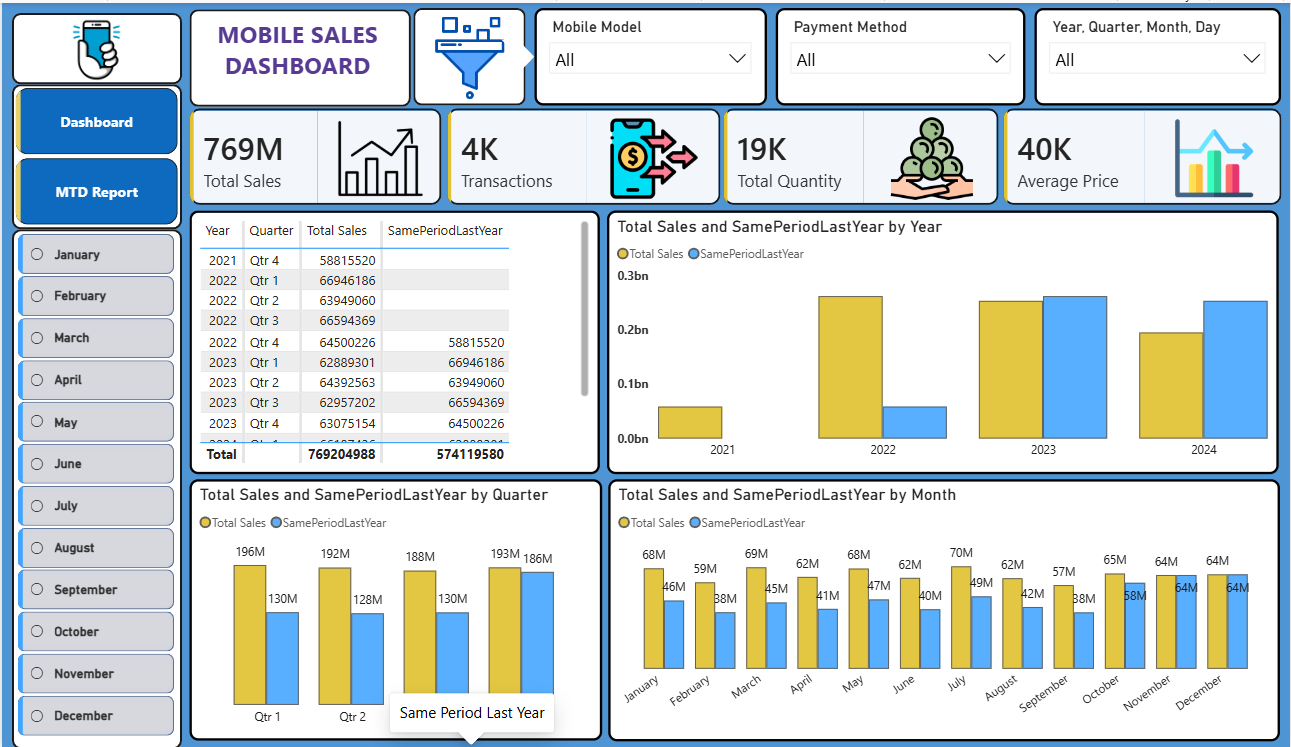

This screenshot's page, from the dashboard's own definition file:
{"tool":"powerbi","page":{"name":"Same Period Last Year","canvas":[1320,765],"ordinal":2},"visuals":[{"type":"shape","box":[10.3,10.3,174.3,73.1],"z":0},{"type":"image","box":[41,15.4,111.5,64.1],"z":1000},{"type":"shape","box":[10.3,83.3,174.3,148.7],"z":2000},{"type":"group","id":"g1","title":"Group 1","box":[184.6,100,1136,115.4],"z":3000},{"type":"shape","box":[10.3,231.8,174.3,533.2],"z":3000,"group":"g2"},{"type":"shape","box":[192,6.4,227,100],"z":4000},{"type":"advancedSlicerVisual","fields":{"Values":["Custom_Calender.Date.Variation.Date Hierarchy.Month"]},"box":[11.6,231.8,170.5,533.2],"z":4000,"group":"g2"},{"type":"textbox","box":[196.1,10.3,214.1,89.7],"z":5000},{"type":"cardVisual","fields":{"Data":["Sales_Data.Total Sales"]},"box":[184.6,100,274.7,115.3],"z":5000,"group":"g1"},{"type":"slicer","fields":{"Values":["Sales_Data.Mobile Model"]},"box":[546.1,5.1,238,100],"z":6000},{"type":"cardVisual","fields":{"Data":["Sales_Data.Total Transaction"]},"box":[448.1,100,296.1,115.3],"z":6000,"group":"g1"},{"type":"slicer","fields":{"Values":["Custom_Calender.Date.Variation.Date Hierarchy.Year","Custom_Calender.Date.Variation.Date Hierarchy.Quarter","Custom_Calender.Date.Variation.Date Hierarchy.Month","Custom_Calender.Date.Variation.Date Hierarchy.Day"]},"box":[1058.8,5.1,252.5,100],"z":7000},{"type":"cardVisual","fields":{"Data":["Sales_Data.Average Price"]},"box":[1019.1,100,301.5,115.3],"z":7000,"group":"g1"},{"type":"slicer","fields":{"Values":["Sales_Data.Payment Method"]},"box":[793.5,5.1,256.4,100],"z":8000},{"type":"cardVisual","fields":{"Data":["Sales_Data.Total_Quantity"]},"box":[732,100,298.8,115.3],"z":8000,"group":"g1"},{"type":"shape","box":[421.7,5.1,115.4,100],"z":9000},{"type":"image","box":[421.7,12.8,115.4,87.2],"z":10000},{"type":"shape","box":[511.5,37.2,34.6,35.9],"z":11000},{"type":"group","id":"g2","title":"Group 2","box":[10.3,231.8,174.3,533.2],"z":12000},{"type":"tableEx","fields":{"Values":["Custom_Calender.Date.Variation.Date Hierarchy.Year","Custom_Calender.Date.Variation.Date Hierarchy.Quarter","Sales_Data.Total Sales","Sales_Data.SamePeriodLastYear"]},"box":[192,213,421,270.5],"z":13000},{"type":"clusteredColumnChart","fields":{"Category":["Custom_Calender.Date.Variation.Date Hierarchy.Year","Custom_Calender.Date.Variation.Date Hierarchy.Quarter"],"Y":["Sales_Data.Total Sales","Sales_Data.SamePeriodLastYear"]},"box":[621,213,689,270.5],"z":14000},{"type":"clusteredColumnChart","fields":{"Y":["Sales_Data.Total Sales","Sales_Data.SamePeriodLastYear"],"Category":["Custom_Calender.Date.Variation.Date Hierarchy.Year","Custom_Calender.Date.Variation.Date Hierarchy.Quarter","Custom_Calender.Date.Variation.Date Hierarchy.Month","Custom_Calender.Date.Variation.Date Hierarchy.Day"]},"box":[622,489,689,269],"z":15000},{"type":"clusteredColumnChart","fields":{"Y":["Sales_Data.Total Sales","Sales_Data.SamePeriodLastYear"],"Category":["Custom_Calender.Date.Variation.Date Hierarchy.Year","Custom_Calender.Date.Variation.Date Hierarchy.Quarter","Custom_Calender.Date.Variation.Date Hierarchy.Month","Custom_Calender.Date.Variation.Date Hierarchy.Day"]},"box":[192.3,489,423,268],"z":16000},{"type":"pageNavigator","box":[14,87,166,141],"z":16001}]}

Visuals, with their boxes in screenshot pixels (x1, y1, x2, y2), scaled from the page's 1320x765 canvas onto the 1291x747 screenshot:
shape: <box>10,10,181,81</box>
image: <box>40,15,149,78</box>
shape: <box>10,81,181,227</box>
"Group 1" group: <box>181,98,1290,210</box>
shape: <box>10,226,181,746</box>
shape: <box>188,6,410,104</box>
advancedSlicerVisual - Custom_Calender.Date.Variation.Date Hierarchy.Month: <box>11,226,178,746</box>
textbox: <box>192,10,401,98</box>
cardVisual - Sales_Data.Total Sales: <box>181,98,449,210</box>
slicer - Sales_Data.Mobile Model: <box>534,5,767,103</box>
cardVisual - Sales_Data.Total Transaction: <box>438,98,728,210</box>
slicer - Custom_Calender.Date.Variation.Date Hierarchy.Year x Custom_Calender.Date.Variation.Date Hierarchy.Quarter: <box>1036,5,1282,103</box>
cardVisual - Sales_Data.Average Price: <box>997,98,1290,210</box>
slicer - Sales_Data.Payment Method: <box>776,5,1027,103</box>
cardVisual - Sales_Data.Total_Quantity: <box>716,98,1008,210</box>
shape: <box>412,5,525,103</box>
image: <box>412,12,525,98</box>
shape: <box>500,36,534,71</box>
"Group 2" group: <box>10,226,181,746</box>
tableEx - Custom_Calender.Date.Variation.Date Hierarchy.Year x Custom_Calender.Date.Variation.Date Hierarchy.Quarter: <box>188,208,600,472</box>
clusteredColumnChart - Custom_Calender.Date.Variation.Date Hierarchy.Year x Custom_Calender.Date.Variation.Date Hierarchy.Quarter: <box>607,208,1281,472</box>
clusteredColumnChart - Sales_Data.Total Sales x Sales_Data.SamePeriodLastYear: <box>608,477,1282,740</box>
clusteredColumnChart - Sales_Data.Total Sales x Sales_Data.SamePeriodLastYear: <box>188,477,602,739</box>
pageNavigator: <box>14,85,176,223</box>
